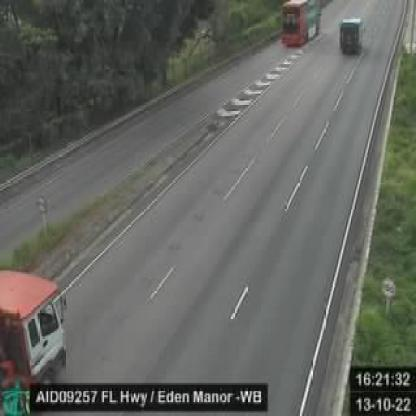Bus: (282, 0, 323, 50)
Car: (0, 262, 66, 392)
Truck: (339, 14, 362, 57)
